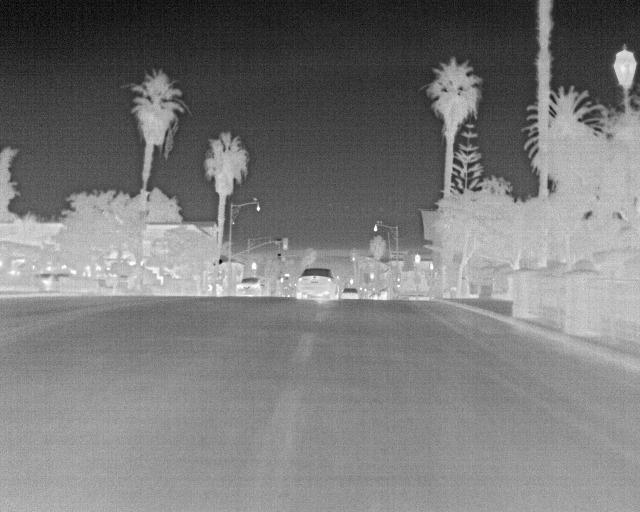car: (292, 267, 339, 302), (232, 275, 269, 298), (336, 285, 365, 301)
